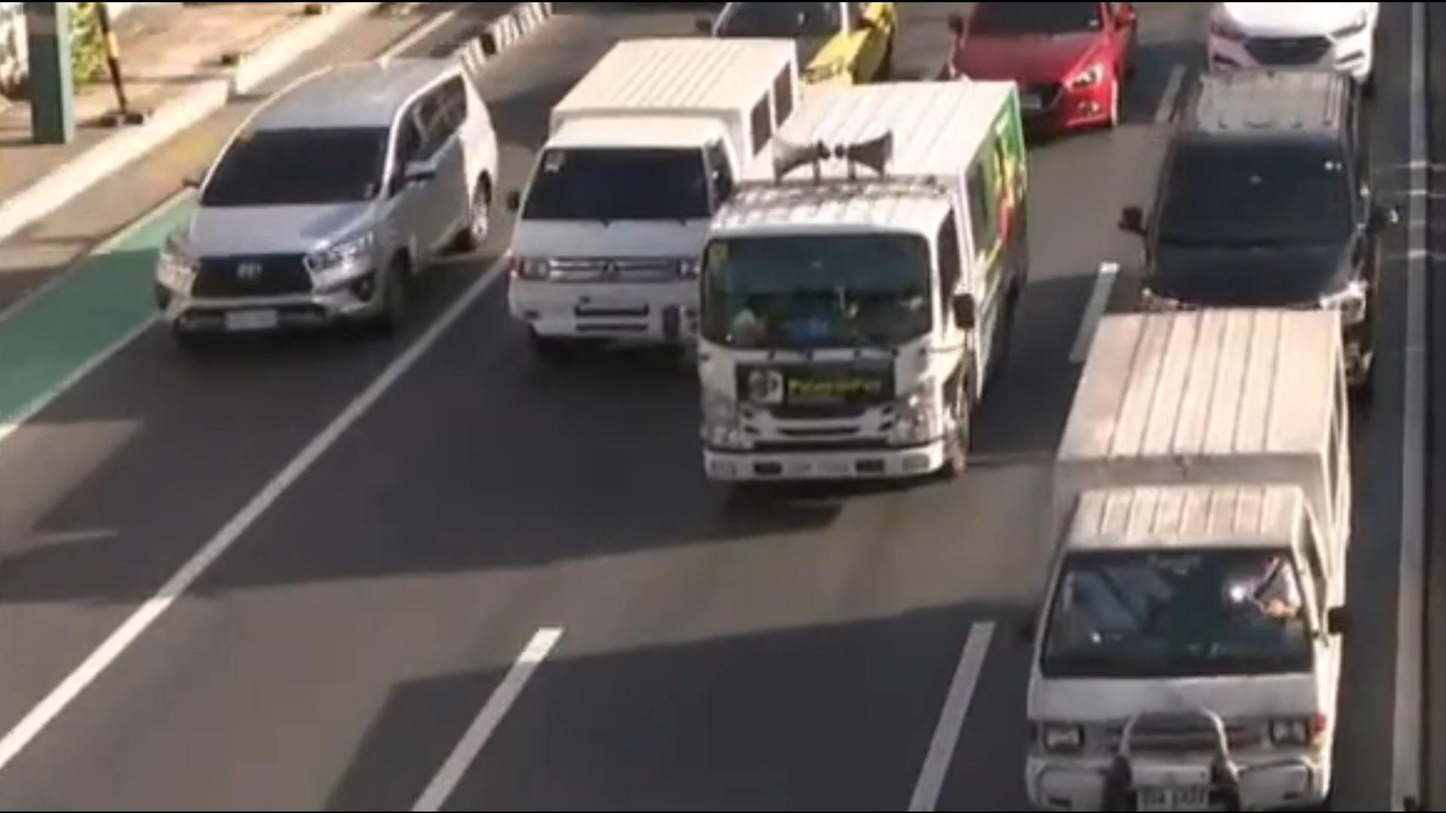Multicab: (1011, 315, 1359, 813), (514, 35, 796, 352)
SUV: (154, 58, 501, 346), (1134, 70, 1376, 396)
Sedan: (938, 2, 1137, 143), (691, 3, 904, 88)
Truck: (701, 89, 1033, 487)
